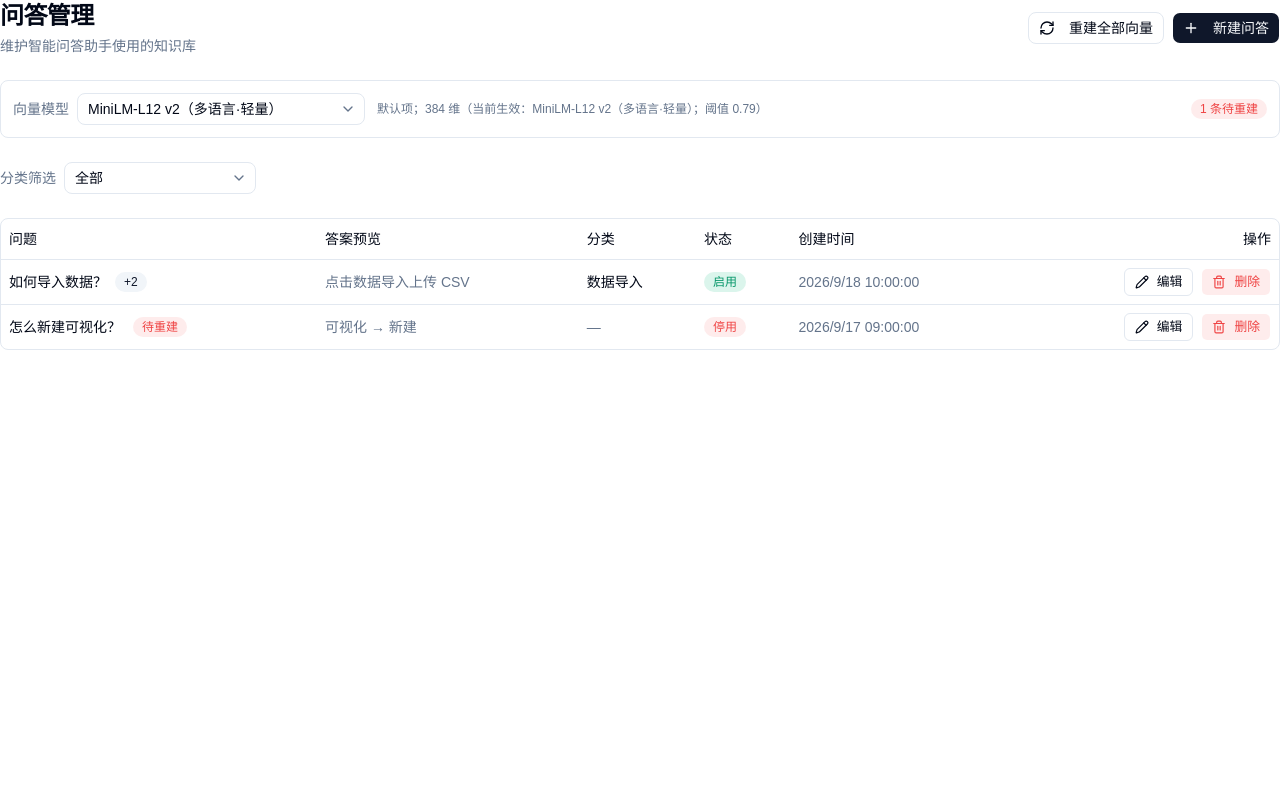
Test case: QAManagementPage › opens the create dialog from the toolbar button
Click the button with test id "create-qa-button" at {"x": 1226, "y": 28}, box x1=1172 y1=12 x2=1279 y2=44
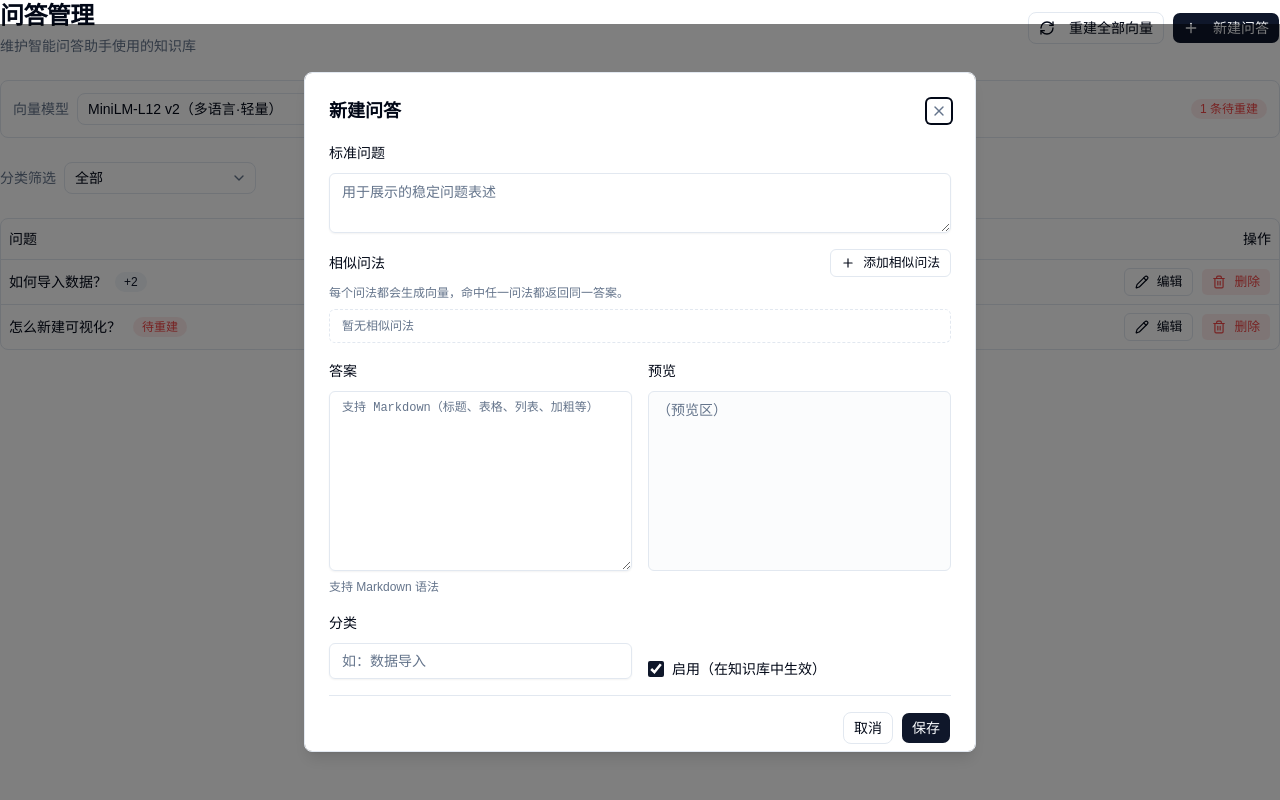
Expected: the text "标准问题" is shown, x1=329 y1=145 x2=385 y2=161
Expected: the button "添加相似问法" is shown, x1=830 y1=249 x2=951 y2=277
